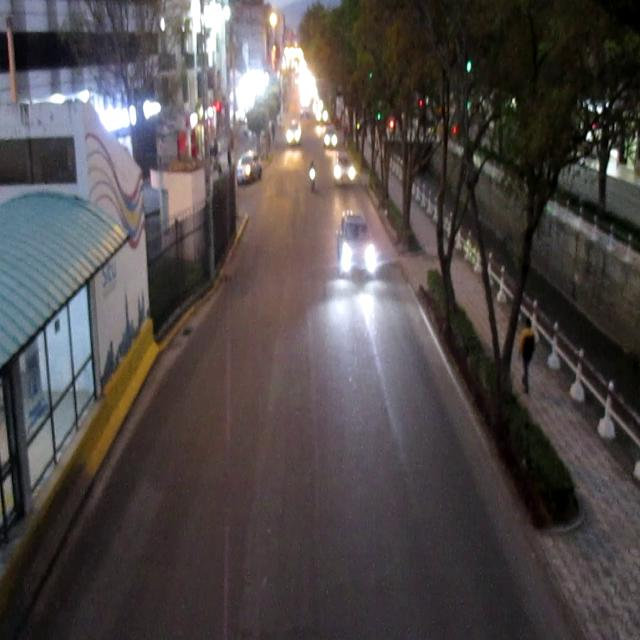MOTORCYCLE: (310, 157, 316, 195)
SUV: (238, 155, 262, 183)
